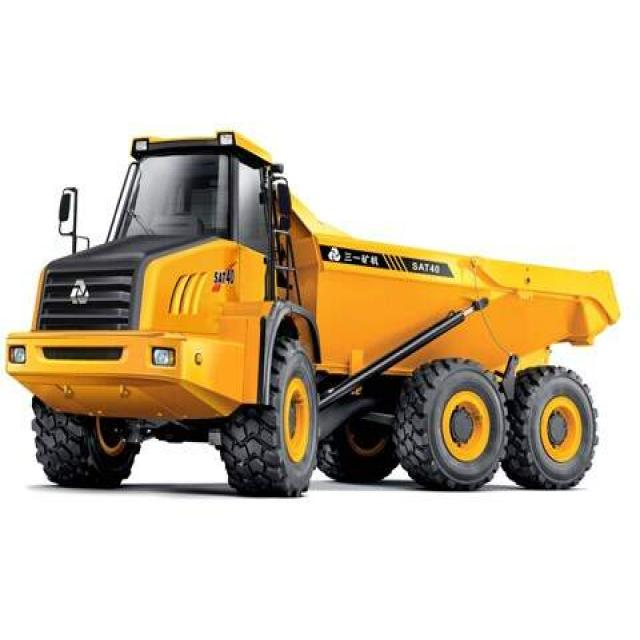truck: (6, 132, 618, 496)
